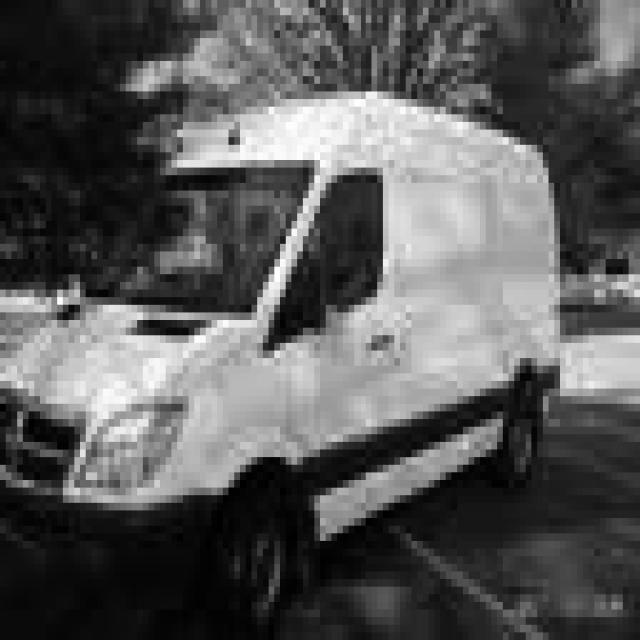car: (0, 84, 560, 632)
